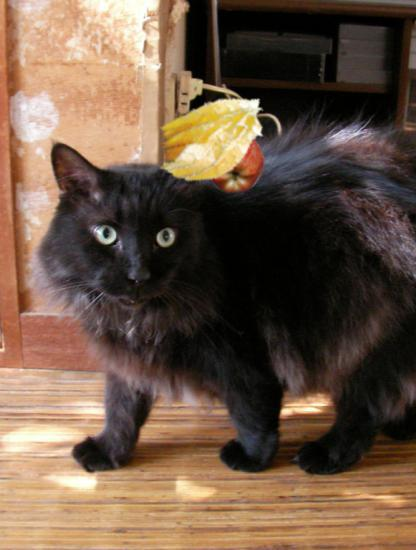Apple: (201, 130, 266, 195)
Physalis: (151, 77, 275, 201)
